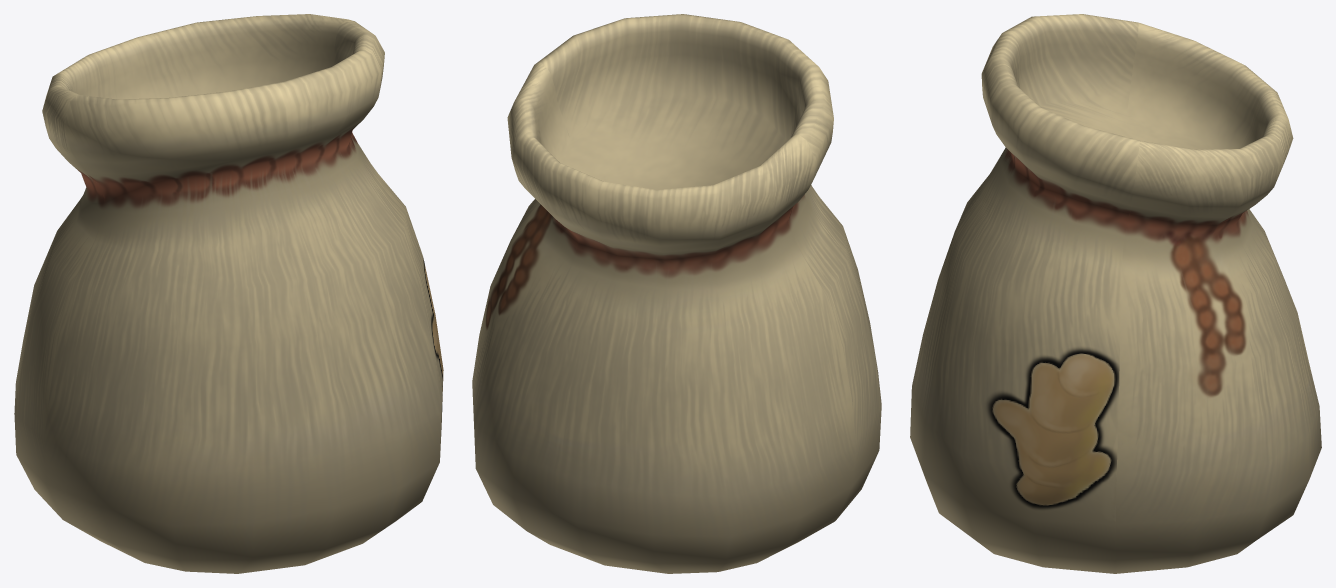
Rendered from Model_TexturaSacoAberto2Gengibre_v1.fbx.
3 renders of one model, left to right at view 1: azimuth 30°, elevation 25°; view 2: azimuth 150°, elevation 25°; view 3: azimuth 270°, elevation 25°, orthographic. The views are drawn at different scales.
Parts seen in each view (by area): view 1: saco torto.004; view 2: saco torto.004; view 3: saco torto.004.
Boxes of the visible parts, x1=… form: saco torto.004: x1=14, y1=14, x2=443, y2=573; saco torto.004: x1=472, y1=14, x2=881, y2=573; saco torto.004: x1=910, y1=14, x2=1321, y2=573.
Size of the model in its own units: 233 by 292 by 231.
